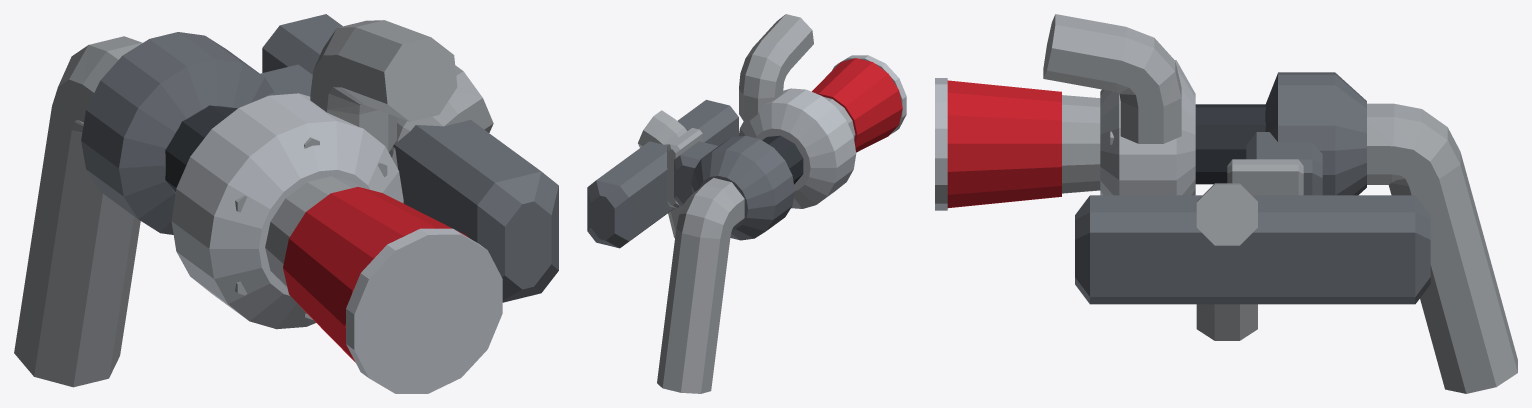
The model's file is hana_roadster.glb.
3 renders of one model, left to right at view 1: azimuth 30°, elevation 25°; view 2: azimuth 150°, elevation 25°; view 3: azimuth 270°, elevation 25°, orthographic. The views are drawn at different scales.
Parts seen in each view (by area): view 1: model; view 2: model; view 3: model.
Part boxes in pixels (x1,y1,x2,y2): model: [14, 14, 558, 393]; model: [587, 14, 906, 393]; model: [935, 14, 1517, 393].
Bounding box in the file's own units: 0.2358 × 0.3375 × 0.4587.
Materials: 2 (1 with a texture image).
